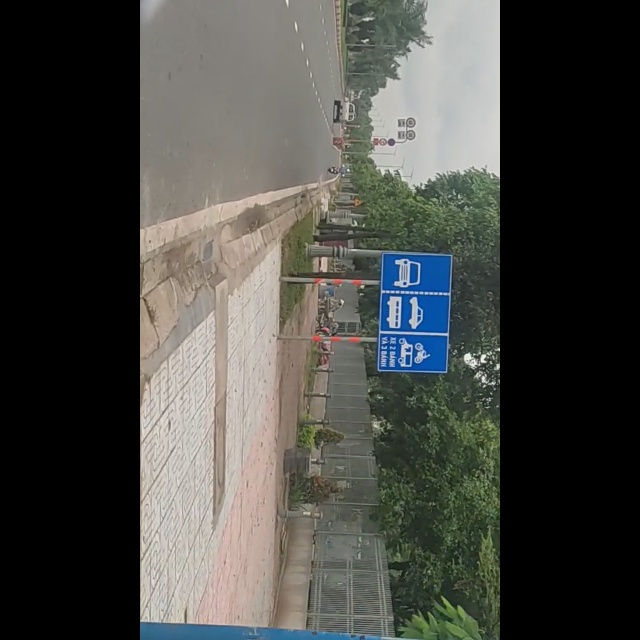bien_chi_dan: (417, 248, 555, 375)
